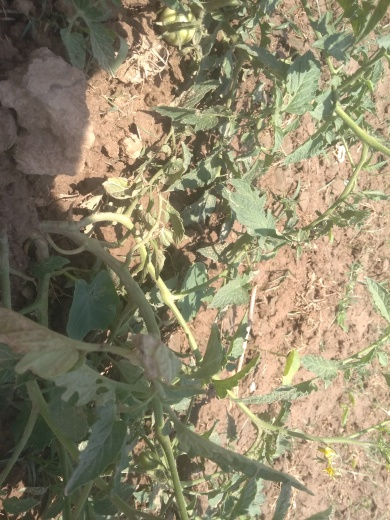tomato: (149, 1, 197, 49)
tomato diseased leaf: (1, 302, 75, 384), (113, 132, 152, 189), (96, 172, 157, 207), (314, 437, 344, 475)
tomato plant: (1, 227, 276, 516), (166, 1, 366, 281)
